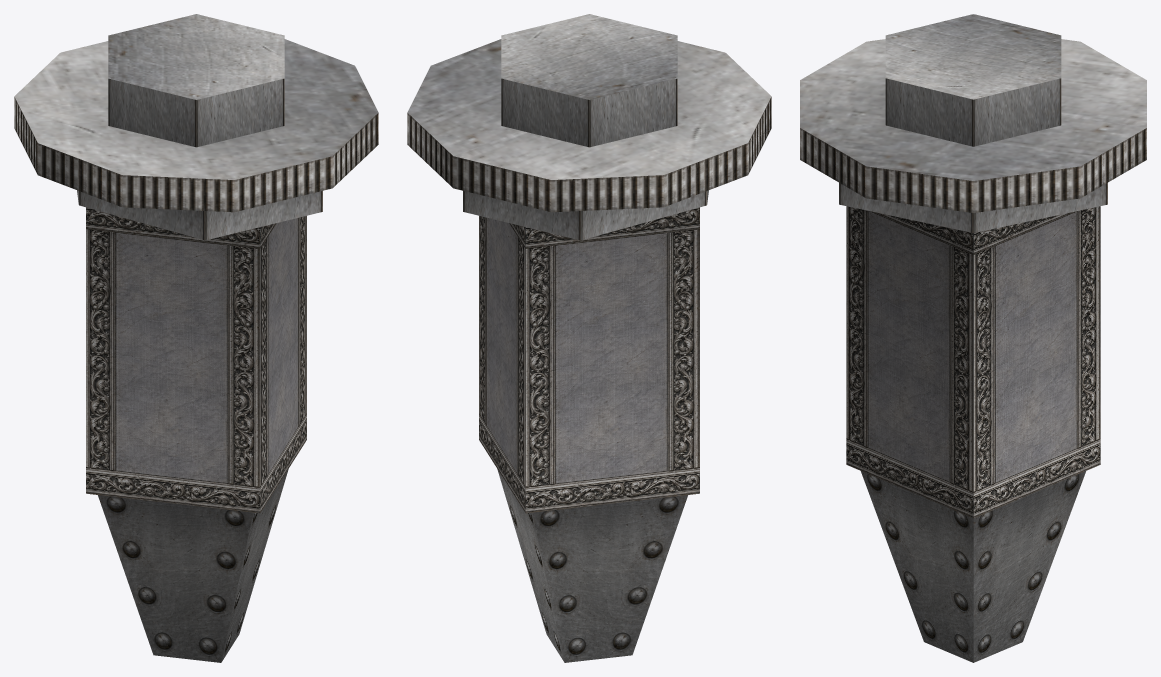
Rendered from mm9_deco_machinepartwhole.glb.
The picture shows the model from 3 angles, left to right: view 1: azimuth 30°, elevation 25°; view 2: azimuth 150°, elevation 25°; view 3: azimuth 270°, elevation 25°; orthographic projection.
Parts seen in each view (by area): view 1: Machinepartwhole; view 2: Machinepartwhole; view 3: Machinepartwhole.
Boxes of the visible parts, left/top/right/bottom form: Machinepartwhole: left=14, top=14, right=378, bottom=662; Machinepartwhole: left=407, top=14, right=771, bottom=662; Machinepartwhole: left=800, top=14, right=1146, bottom=662.
Bounding box in the file's own units: 0.5663 × 1 × 0.5386.
Materials: 2 (2 with a texture image).
